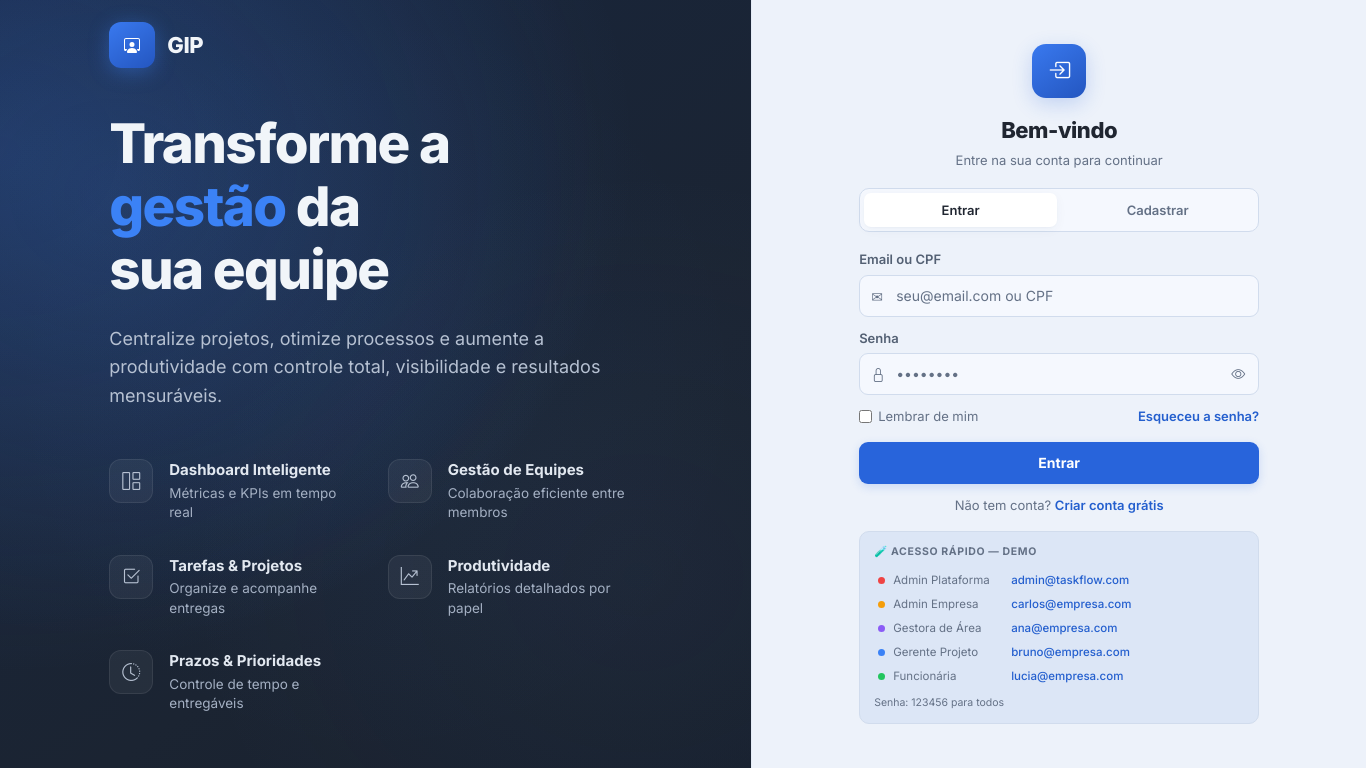
recuperação exibe falha da API em vez de sucesso
The width and height of the screenshot is (1366, 768).
Click the button "Esqueceu a senha?" at (1199, 416), box [1138,407,1259,426]
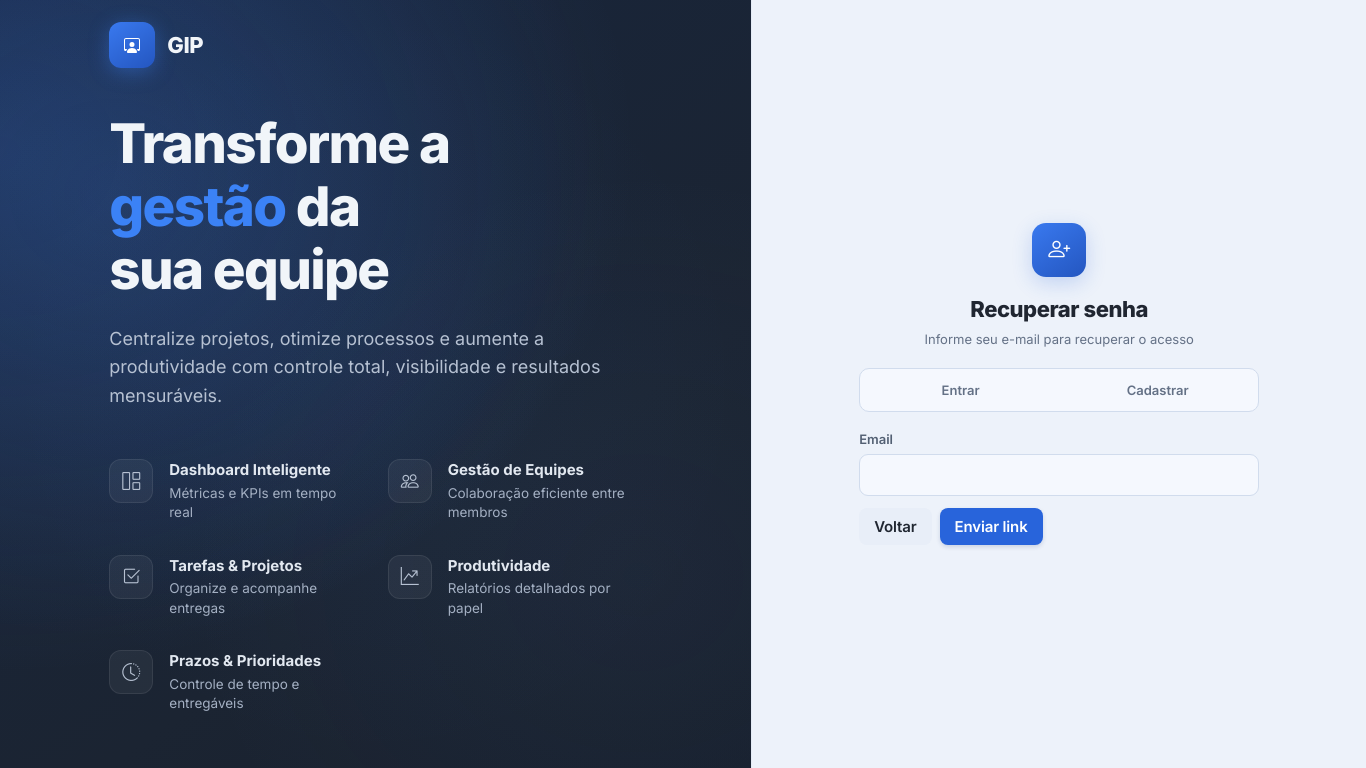
Submit the form, box [859,430,1259,545]
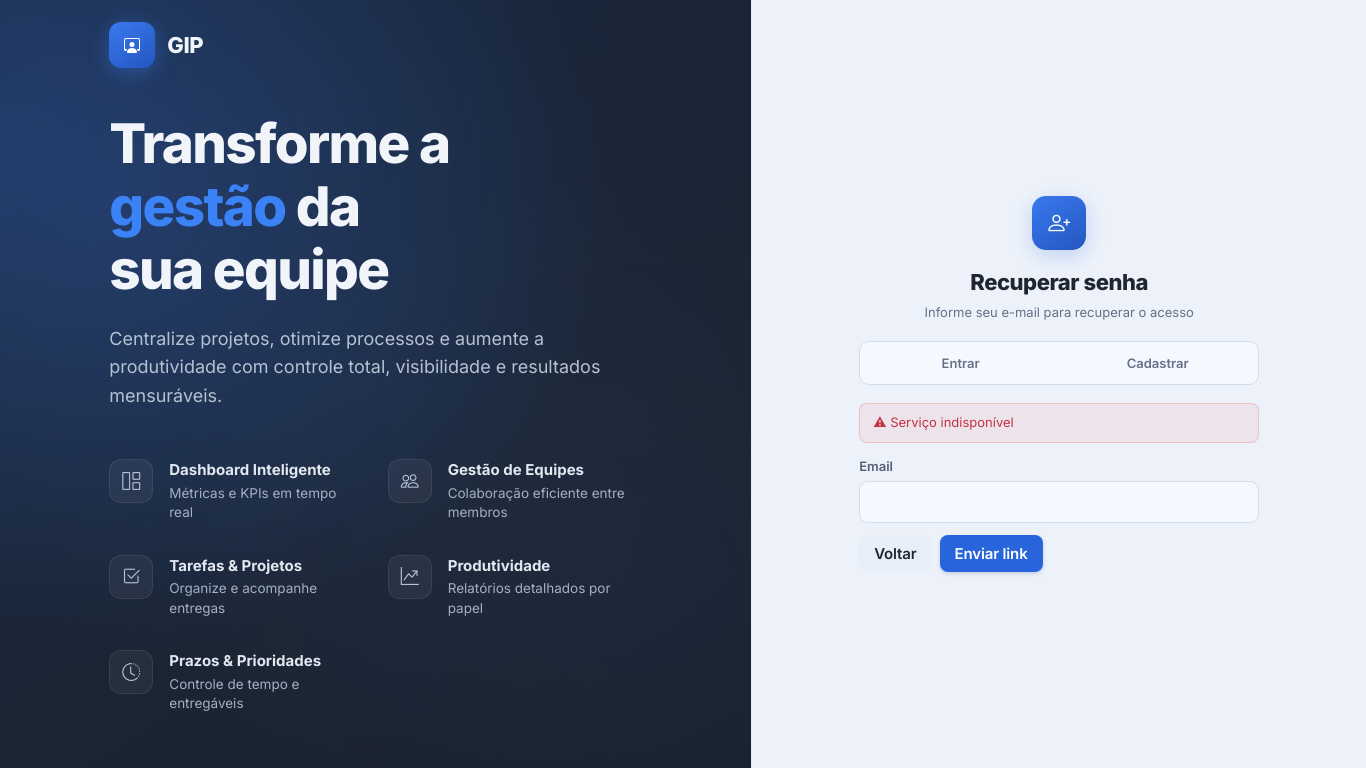
Expected: the text "Serviço indisponível" is shown, [890,414,1014,430]
